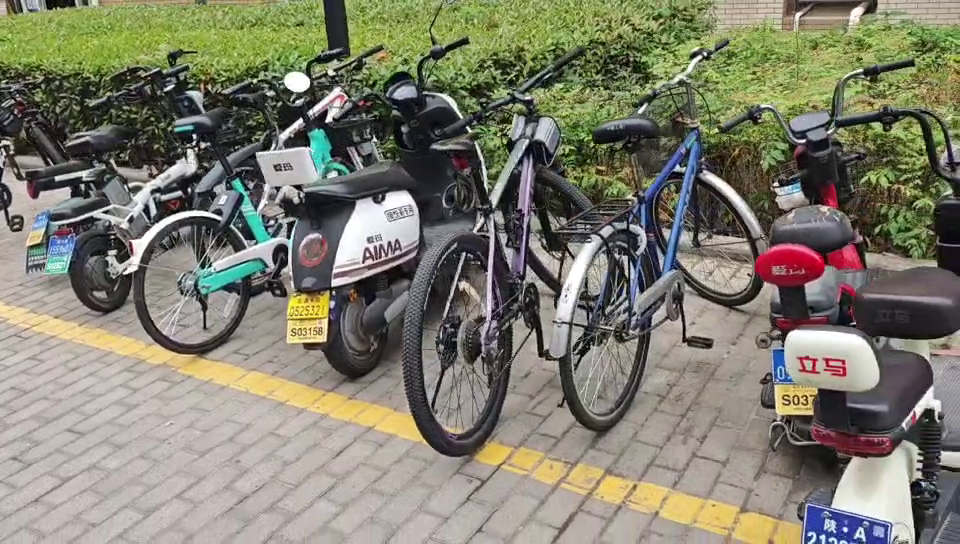others: (412, 46, 605, 456), (570, 59, 767, 421), (818, 109, 960, 544), (722, 59, 889, 420), (296, 67, 484, 355), (26, 53, 201, 288)
shared_bike_qingcong: (144, 56, 332, 348)
